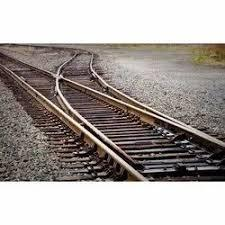track: (0, 52, 225, 183), (48, 47, 225, 181)
